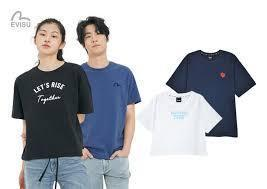Tshirt: (11, 60, 98, 164), (166, 48, 256, 140), (77, 59, 141, 160), (134, 90, 224, 158)
